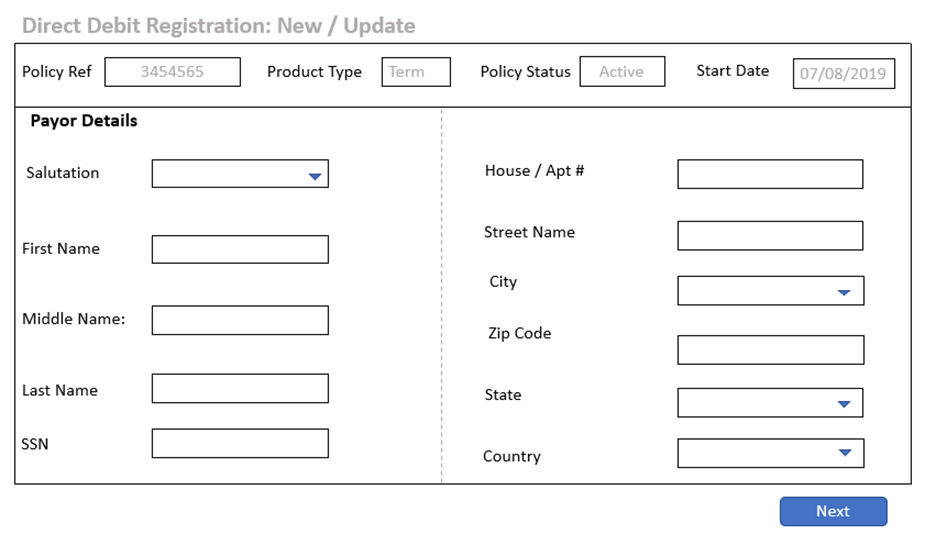button: (771, 491, 898, 530)
